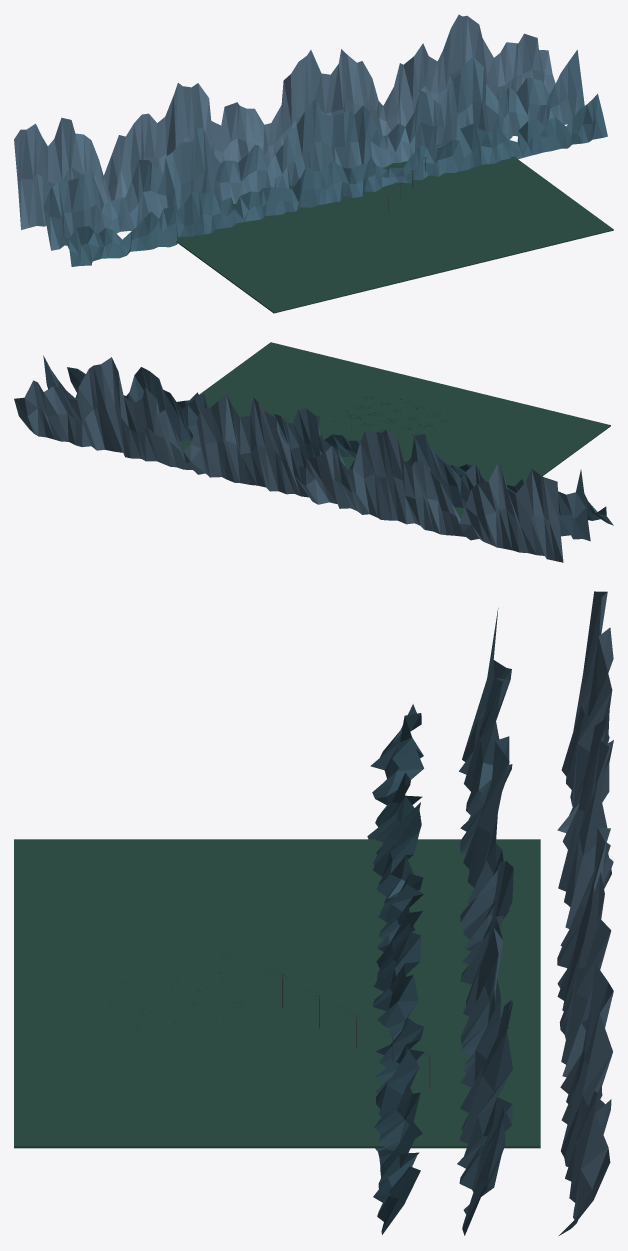
File: GardenGateLand.glb
The picture shows the model from 3 angles, top to bottom: view 1: azimuth 30°, elevation 25°; view 2: azimuth 150°, elevation 25°; view 3: azimuth 270°, elevation 25°; orthographic projection. The views are drawn at different scales.
Visible parts, largest first — view 1: GardenGateLand; view 2: GardenGateLand; view 3: GardenGateLand.
Boxes of the visible parts, x1,y1,x2,y2 form: GardenGateLand: (14,14,613,313); GardenGateLand: (14,342,613,562); GardenGateLand: (14,591,613,1235).
Size of the model in its own units: 219 by 39.63 by 114.
